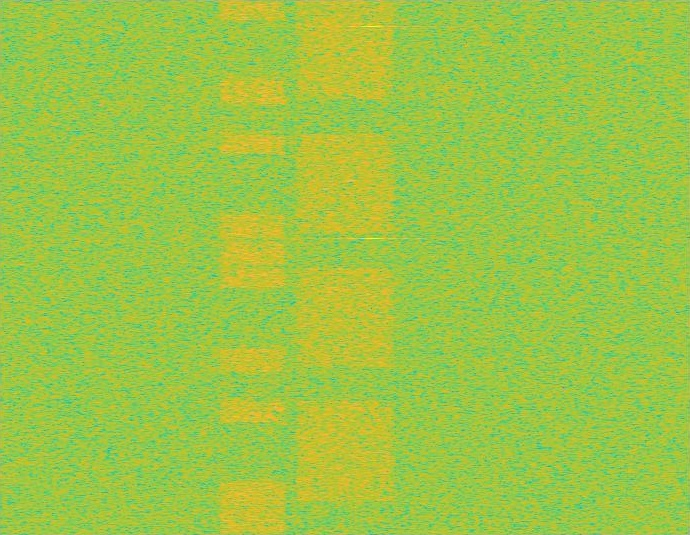5G: (294, 0, 397, 534)
LTE: (218, 0, 287, 534)
Radar: (365, 0, 379, 534)
